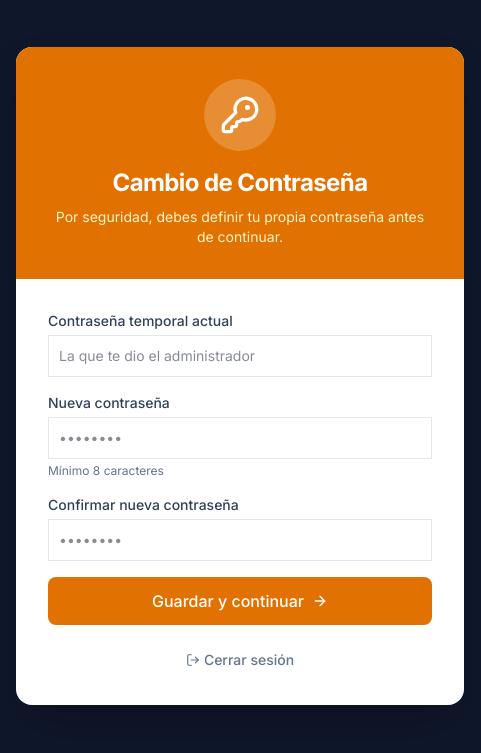
Test case: ForcePasswordChange › rejects mismatched password confirmation
Type "cambiar123" into the password field labelled "Contraseña temporal actual" at (240, 356), box [48,335,432,377]
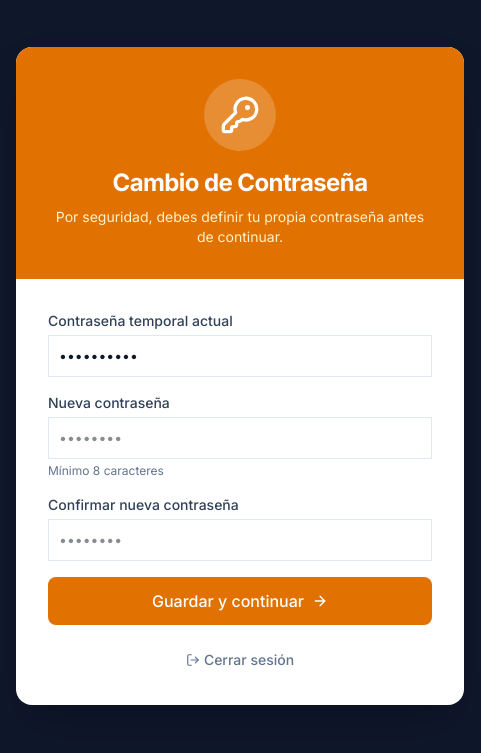
Type "NuevaPass1234" into the password field labelled "Nueva contraseña" at (240, 438), box [48,417,432,459]
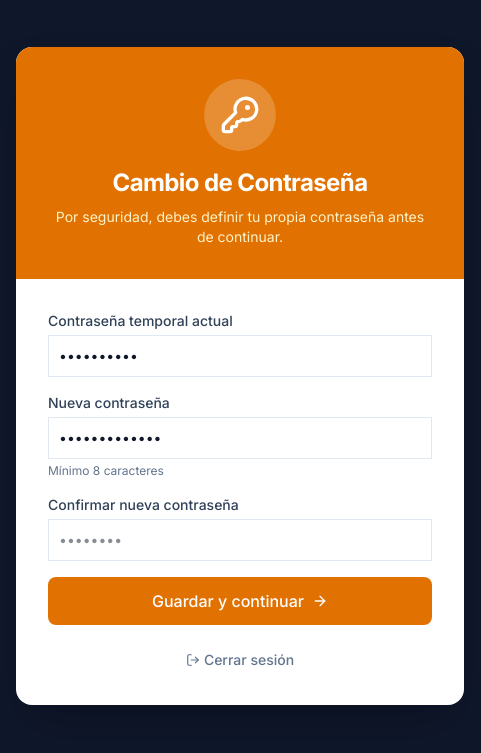
Type "OtraCosaDistinta" into the password field labelled "Confirmar nueva contraseña" at (240, 540), box [48,519,432,561]
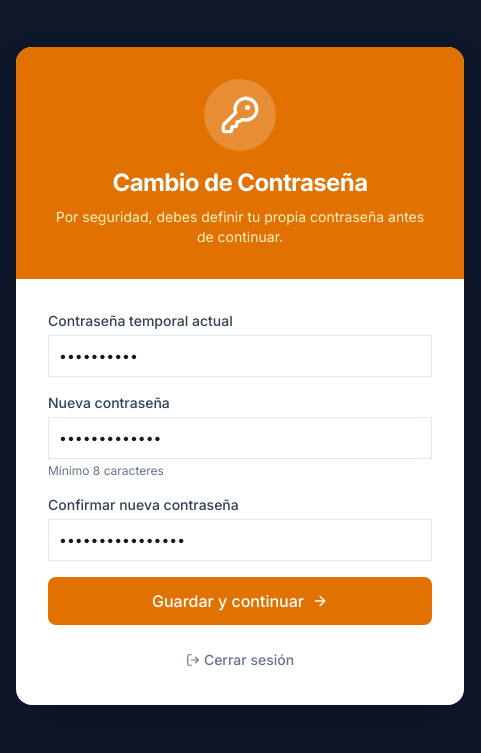
Click the button "Guardar y continuar" at (240, 601), box [48,577,432,625]
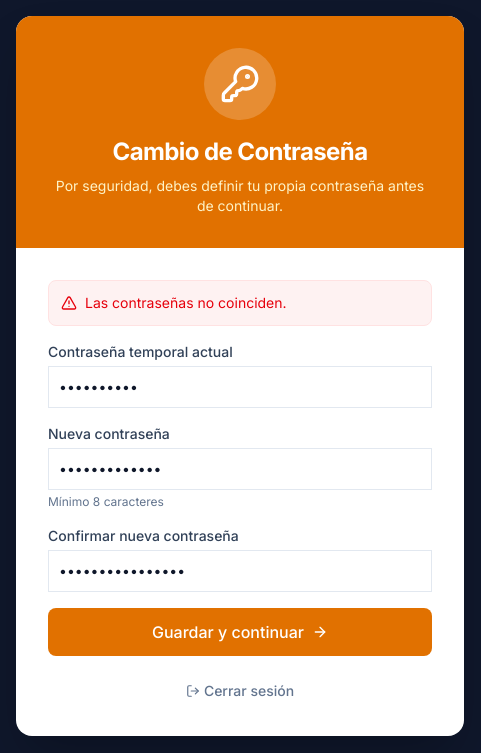
expect the text "Las contraseñas no coinciden." is shown: met, box [85,293,287,313]
